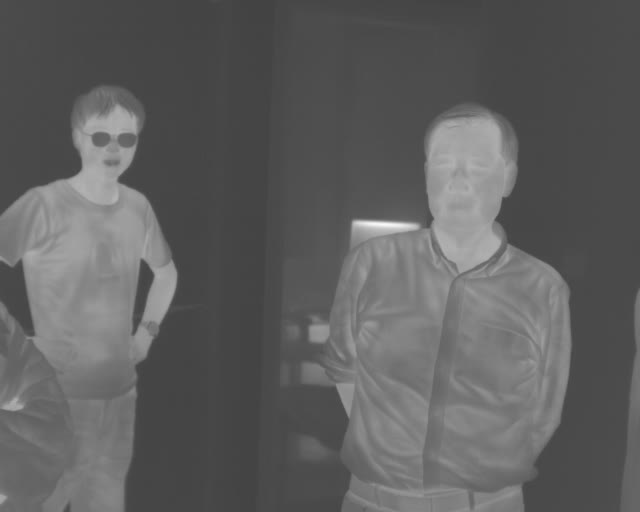face: (422, 100, 519, 238), (70, 84, 146, 185)
